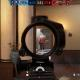Character: (39, 40, 45, 50)
Head: (40, 40, 41, 41)
